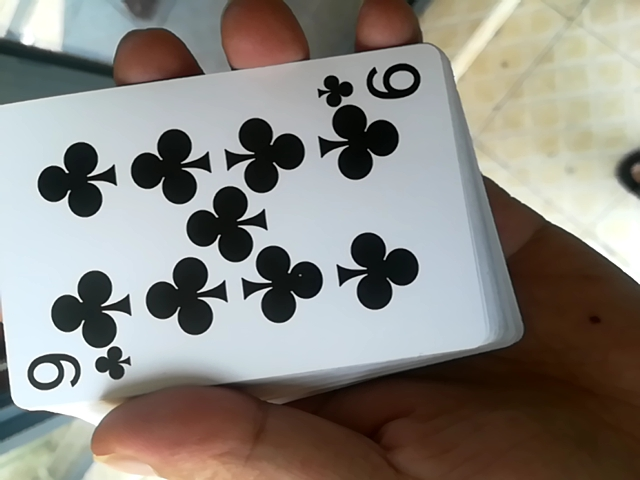mh 9: (8, 50, 508, 412)
